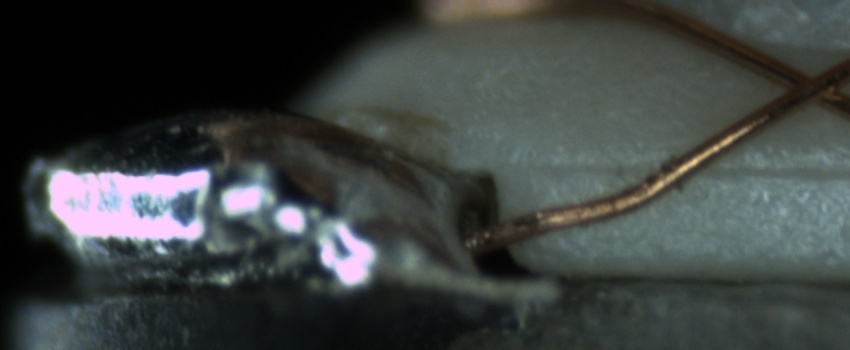CL: (761, 51, 846, 117)
DL: (529, 135, 847, 199)
